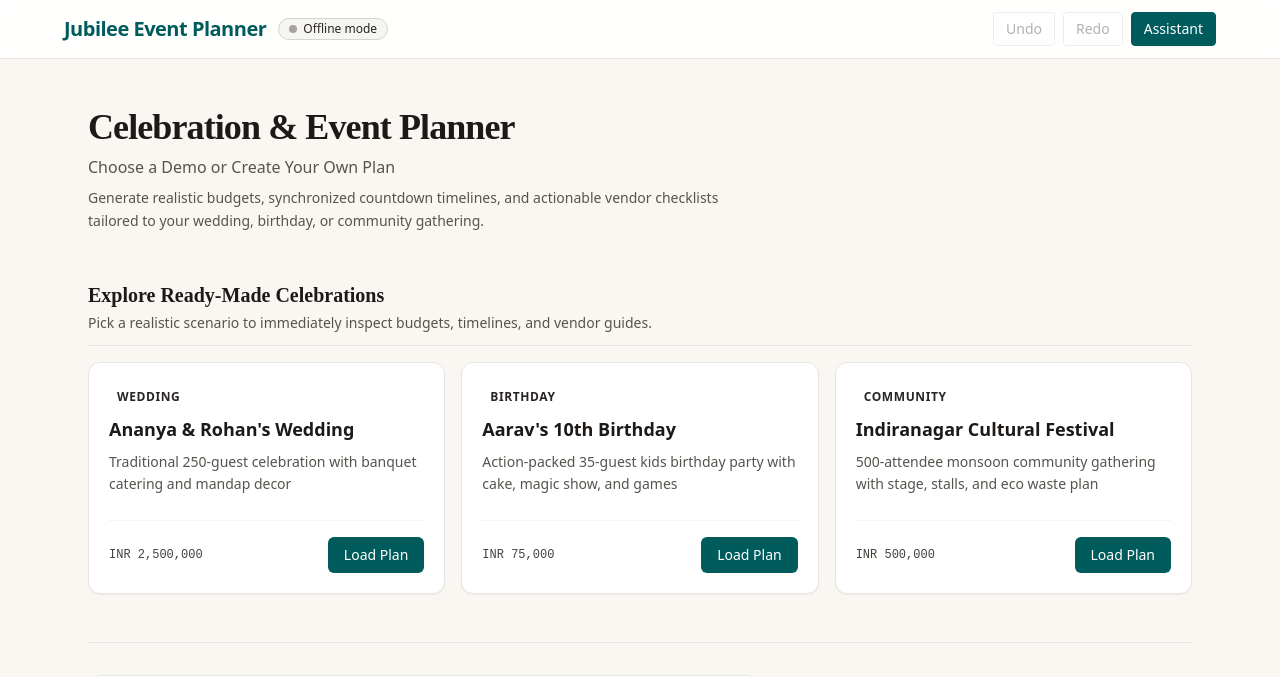
it: End-to-end UI user flows › navigates through all four tabs and verifies content integrity
Click the button with aria-label "Ananya & Rohan's Wedding": coordinates (376, 555) [328,537,424,573]
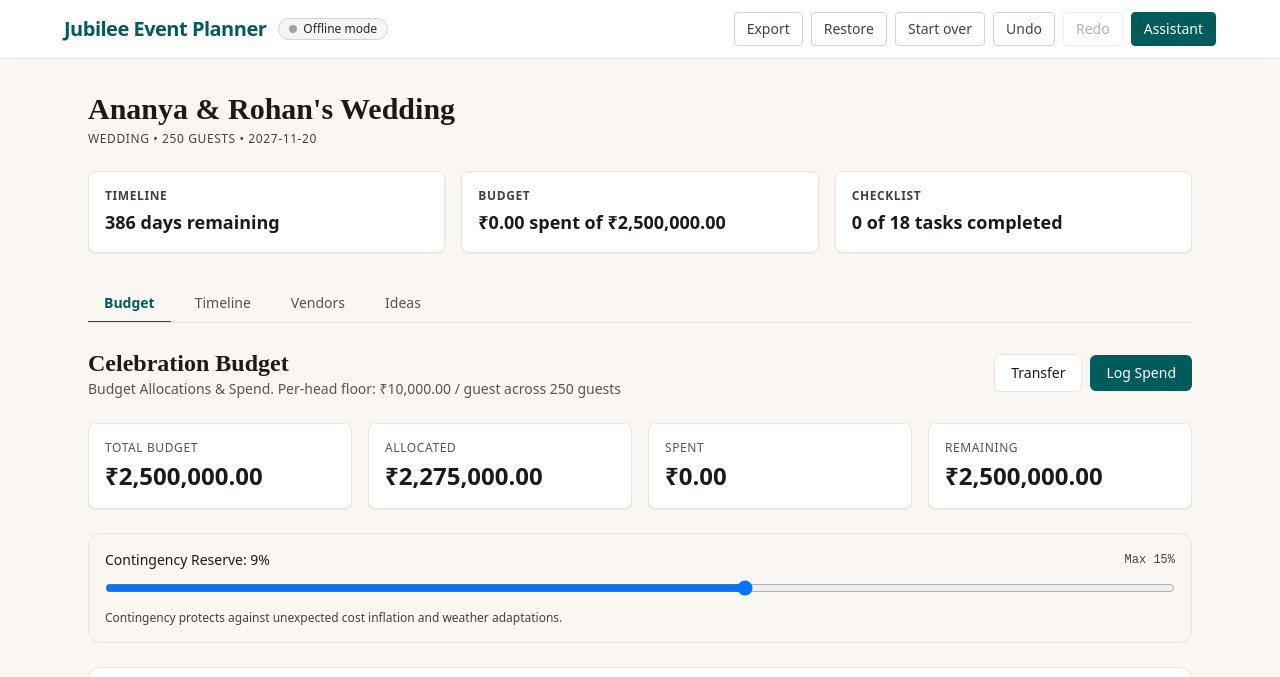
Expected: the heading "Ananya & Rohan's Wedding" is shown, [88,92,455,125]
Click the tab "Timeline": coordinates (223, 304) [179,285,267,323]
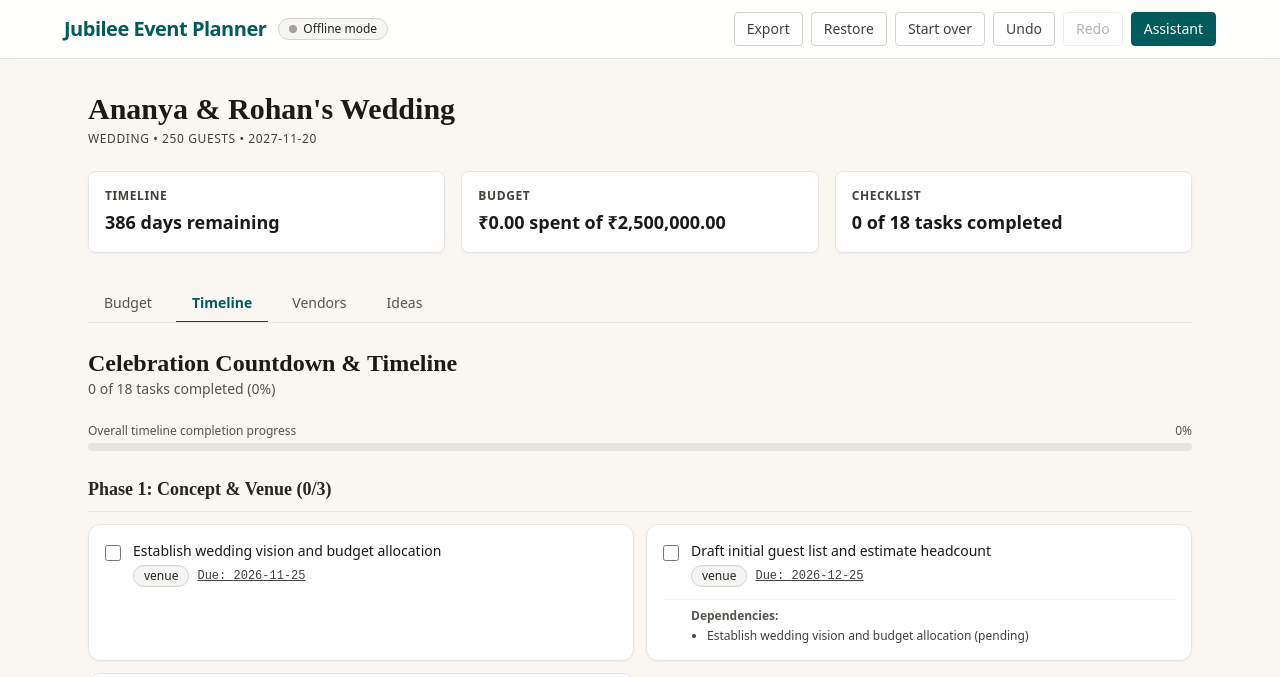
Expected: the text "NaN" is not shown
Expected: the heading "Celebration Countdown & Timeline" is shown, [88,347,457,379]
Click the tab "Vendors": coordinates (319, 304) [276,285,363,323]
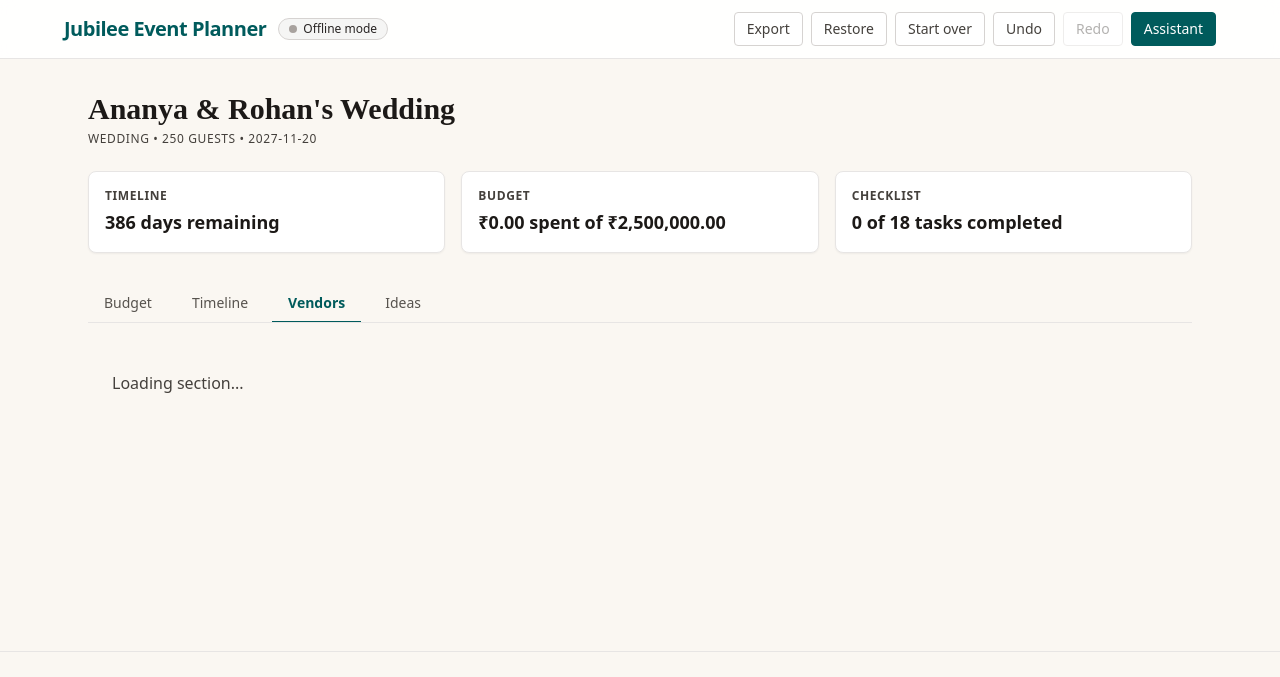
Expected: the text "NaN" is not shown
Click the tab "Ideas": coordinates (403, 304) [369,285,437,323]
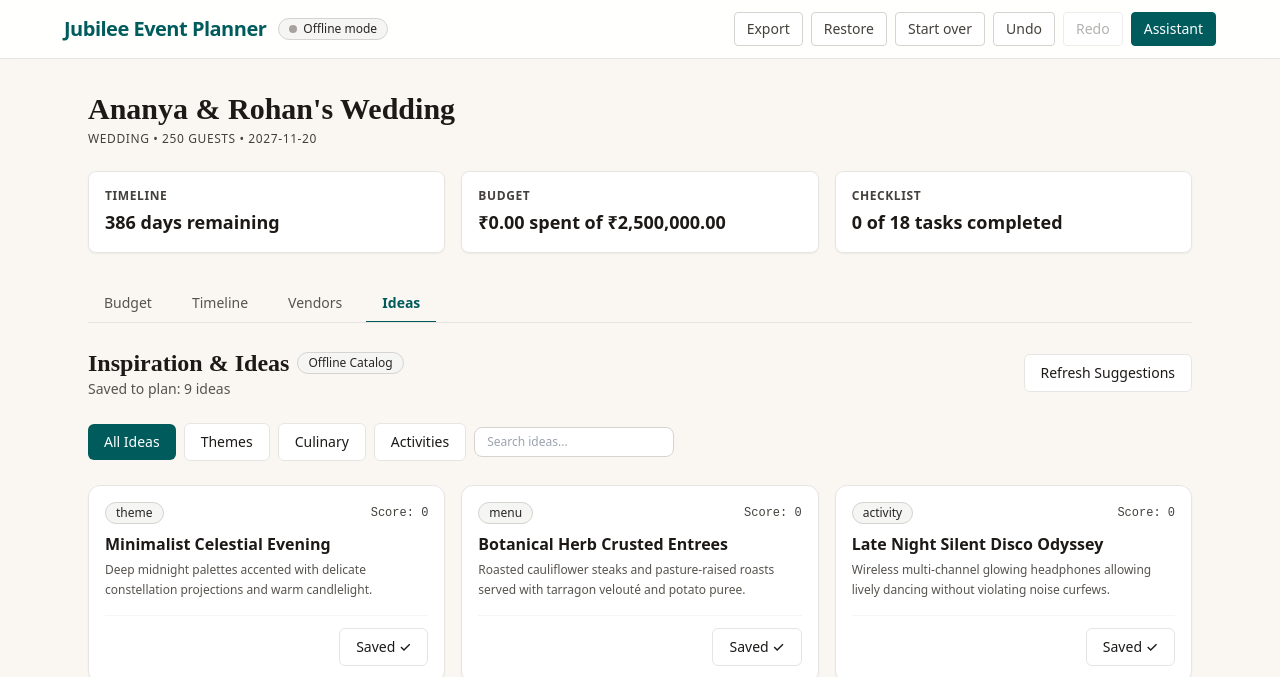
Expected: the text "NaN" is not shown
Expected: the heading "Inspiration & Ideas" is shown, [88,347,289,379]
Click the tab "Budget": coordinates (128, 304) [88,285,168,323]
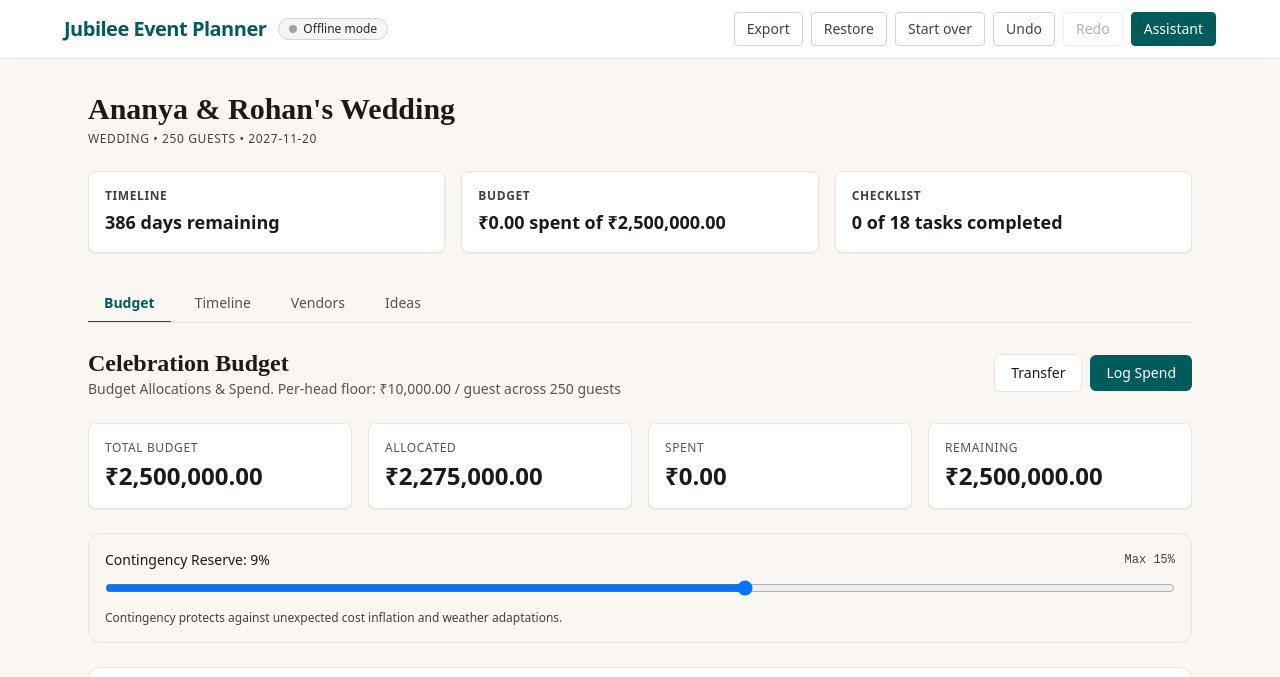
Expected: the text "NaN" is not shown
Expected: the heading "Celebration Budget" is shown, [88,350,289,376]
